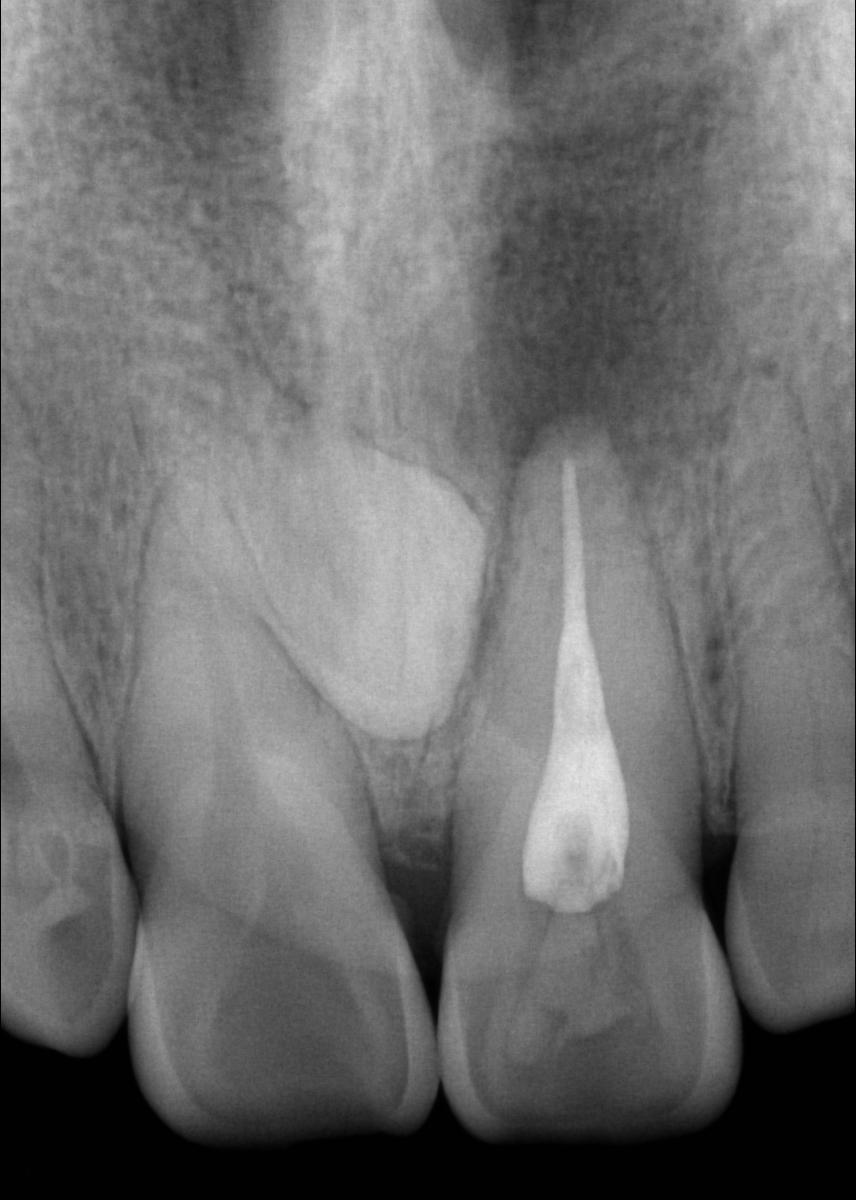Furcation Involvement: (477, 68, 742, 473)
